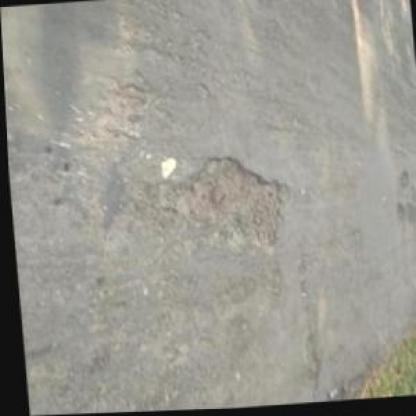pothole: (158, 152, 289, 260), (391, 173, 409, 193), (400, 206, 414, 228), (391, 203, 402, 224)
